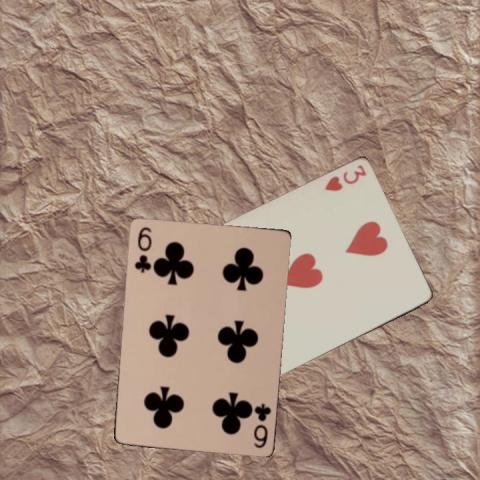3h: (321, 162, 368, 193)
6c: (250, 400, 273, 449), (131, 224, 153, 274)
